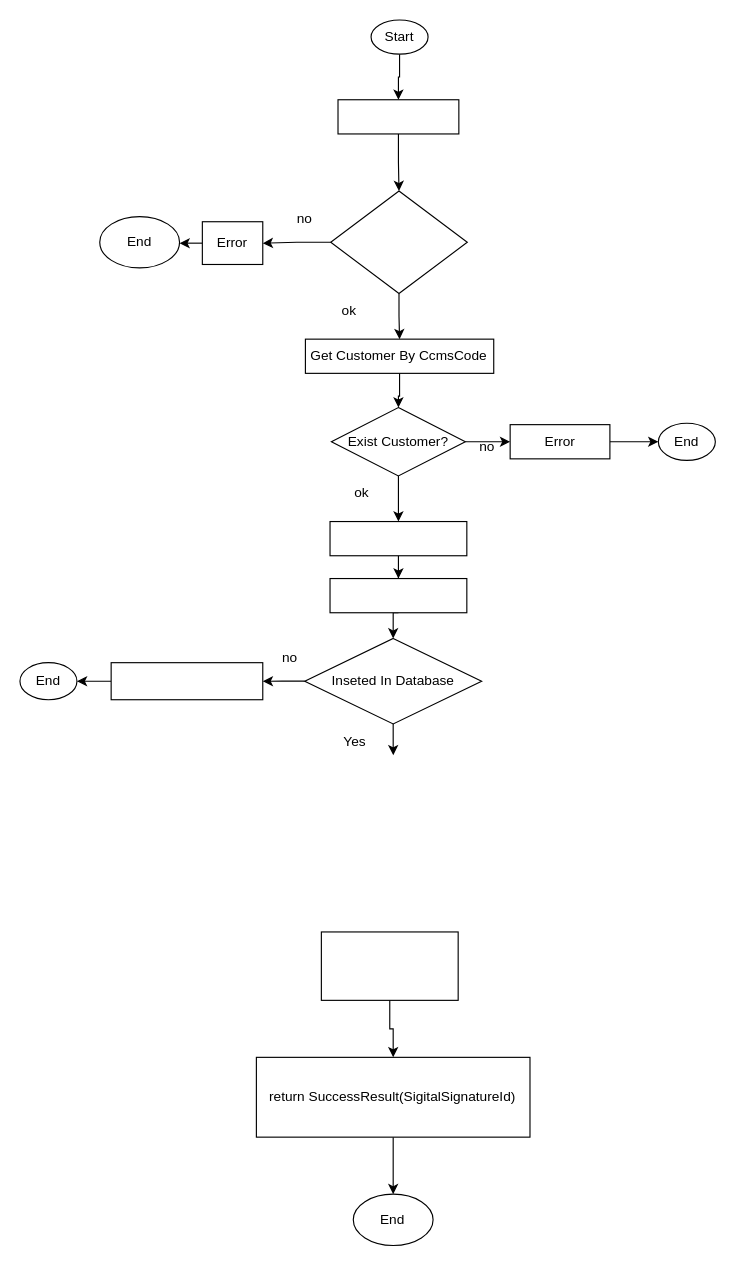
The diagram is 735 pixels wide and 1265 high, and some of its shapes have lost their labels. The shapes that lost their labels are listed below. From the top down, each one's box as (x1, y1, x2, y2) in pixels, then its label:
(337, 99, 459, 134): Upload File
(330, 190, 467, 294): if Upload File is ok
(329, 520, 467, 556): Create Signature File
(329, 577, 467, 613): Insert To Database
(110, 662, 263, 700): Error Digital Signature
(320, 931, 458, 1000): Insert Documet
